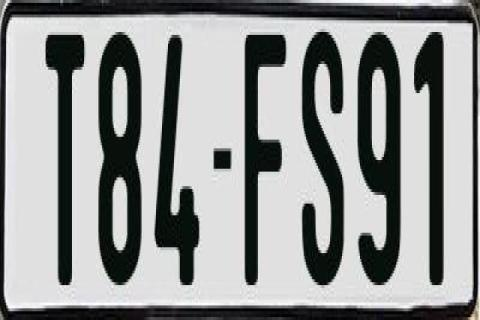0: (96, 24, 146, 294), (154, 29, 206, 279), (358, 27, 400, 286), (414, 26, 446, 294)
F: (242, 32, 286, 300)
S: (302, 32, 346, 300)
T: (45, 35, 83, 288)
